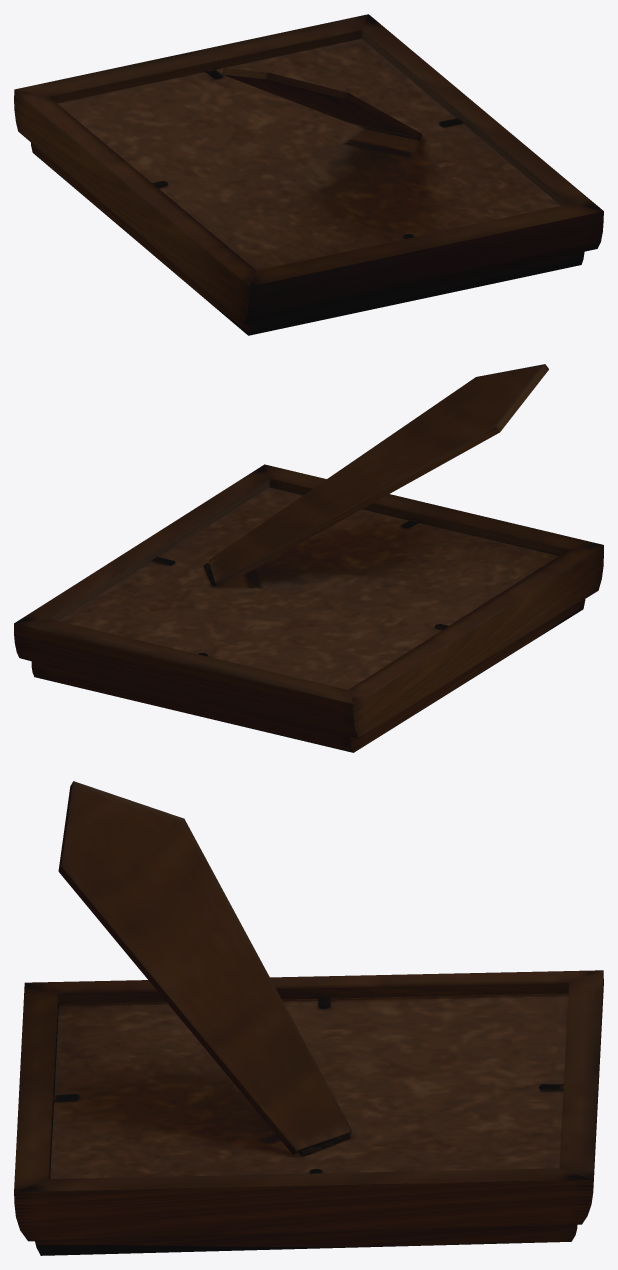
The model's file is G2_DM_cadre.gltf.
The picture shows the model from 3 angles, top to bottom: view 1: azimuth 30°, elevation 25°; view 2: azimuth 150°, elevation 25°; view 3: azimuth 270°, elevation 25°; orthographic projection. The views are drawn at different scales.
Parts seen in each view (by area): view 1: cadre_photo; view 2: cadre_photo; view 3: cadre_photo.
Part boxes in pixels (x1,y1,x2,y2): cadre_photo: (14,14,603,335); cadre_photo: (14,364,603,752); cadre_photo: (14,781,603,1255).
Size of the model in its own units: 0.1604 by 0.1088 by 0.1928.
1 material, 1 textured.
